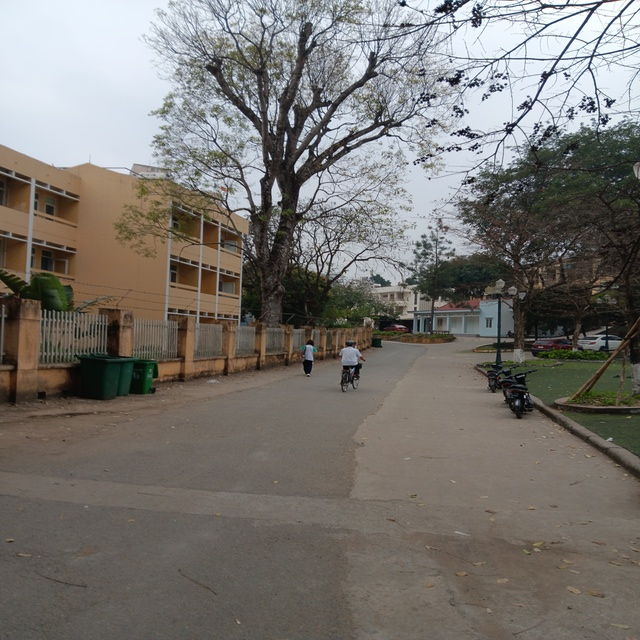thungrac: (87, 349, 116, 405), (133, 357, 159, 396), (114, 355, 132, 395)
